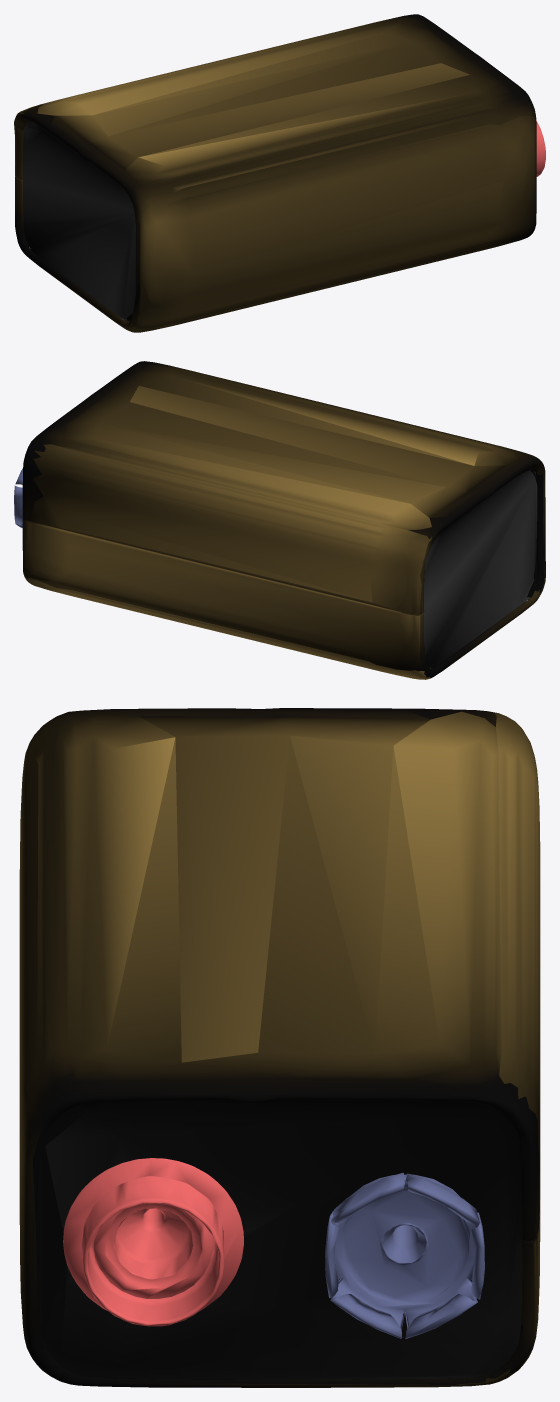
The model's file is Bateria_9V.fbx.
3 renders of one model, top to bottom at view 1: azimuth 30°, elevation 25°; view 2: azimuth 150°, elevation 25°; view 3: azimuth 270°, elevation 25°, orthographic. The views are drawn at different scales.
Visible parts, largest first — view 1: Bateria_Cuerpo, Bateria_Cara, Bateria_ContactoPos; view 2: Bateria_Cuerpo, Bateria_Cara, Bateria_ContactoNeg; view 3: Bateria_Cuerpo, Bateria_Cara, Bateria_ContactoPos, Bateria_ContactoNeg.
Boxes of the visible parts, box(x1,y1,x2,y2) form: Bateria_Cuerpo: box(14, 14, 536, 332); Bateria_Cara: box(23, 121, 136, 321); Bateria_ContactoPos: box(536, 121, 545, 176); Bateria_Cuerpo: box(22, 361, 545, 679); Bateria_Cara: box(424, 468, 537, 668); Bateria_ContactoNeg: box(14, 468, 22, 527); Bateria_Cuerpo: box(19, 708, 540, 1387); Bateria_Cara: box(41, 1101, 522, 1379); Bateria_ContactoPos: box(63, 1158, 243, 1326); Bateria_ContactoNeg: box(325, 1172, 484, 1338).
Bounding box in the file's own units: 0.06 × 0.0205 × 0.032.
